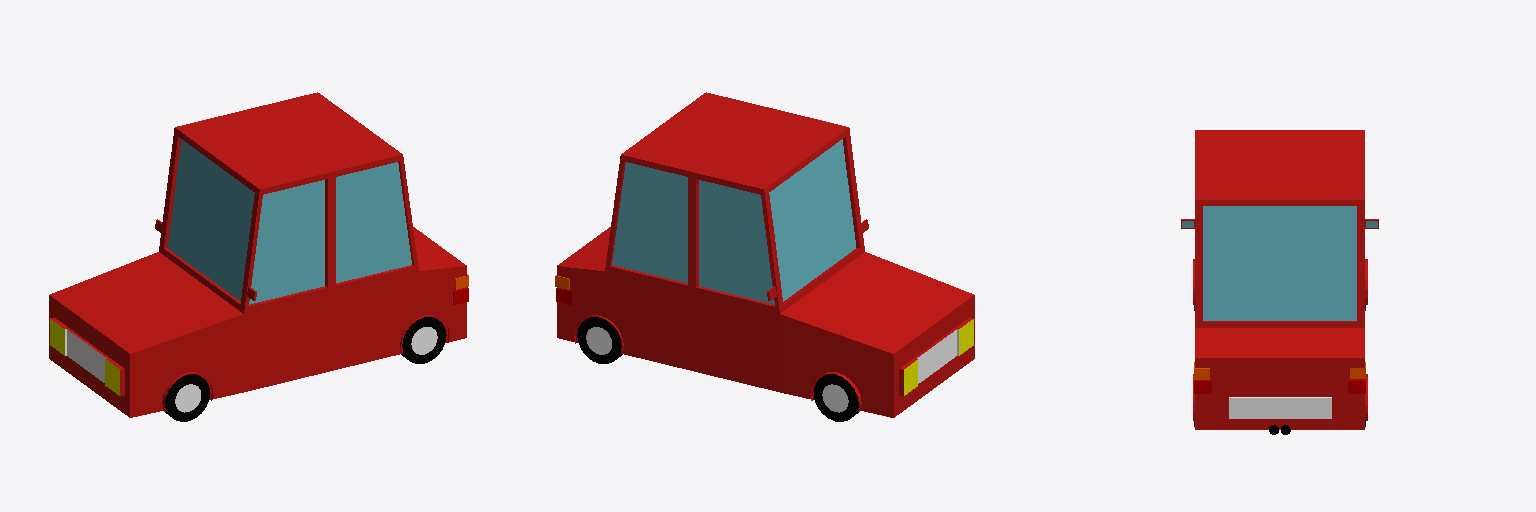
The model's file is car.obj.
3 views of the same model, side by side, from view 1: azimuth 30°, elevation 25°; view 2: azimuth 150°, elevation 25°; view 3: azimuth 270°, elevation 25° (orthographic).
Visible parts, largest first — view 1: car_Cube, FLWheel_Cube.001, RLWheel_Cube.004; view 2: car_Cube, FRWheel_Cube.002, RRWheel_Cube.003; view 3: car_Cube.
Boxes of the visible parts, box(x1,y1,x2,y2) form: car_Cube: box(49, 92, 468, 417); FLWheel_Cube.001: box(165, 374, 209, 421); RLWheel_Cube.004: box(401, 317, 446, 363); car_Cube: box(555, 92, 974, 417); FRWheel_Cube.002: box(814, 374, 858, 421); RRWheel_Cube.003: box(577, 317, 622, 363); car_Cube: box(1181, 130, 1378, 434).
Size of the model in its own units: 4.63 by 2.77 by 2.32.